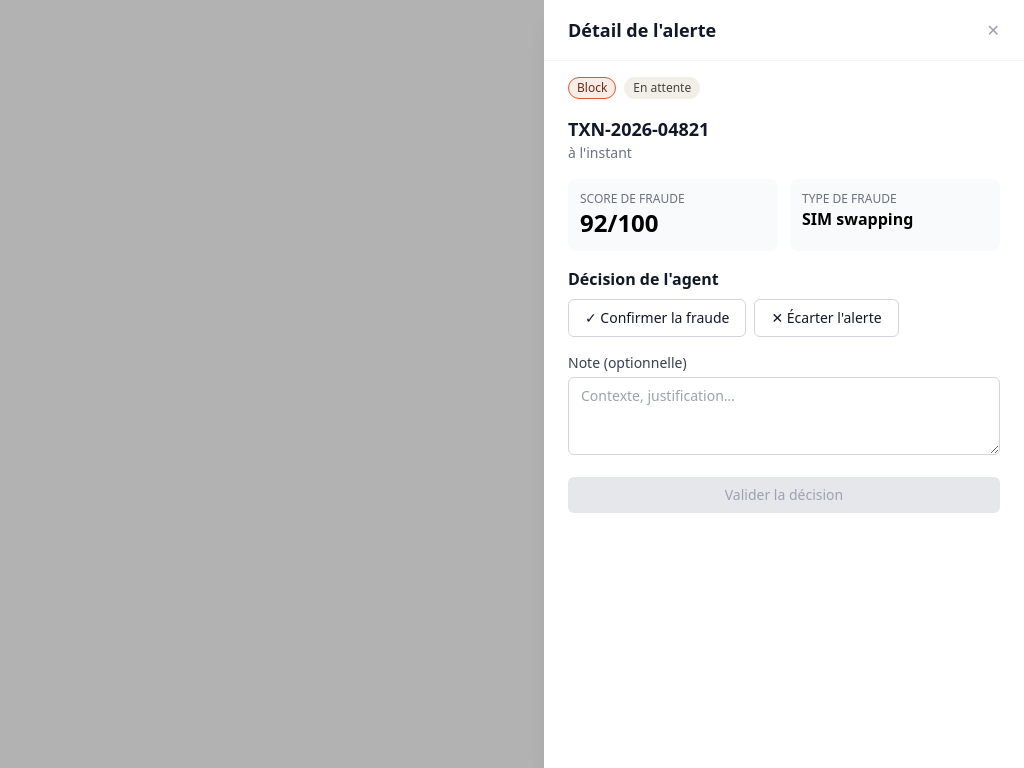
it: AlertDetailPanel › affiche le bandeau de conflit avec les infos réelles sur 409
Step 1. Click the button "✓ Confirmer la fraude" → (657, 318), box [568,299,746,337]
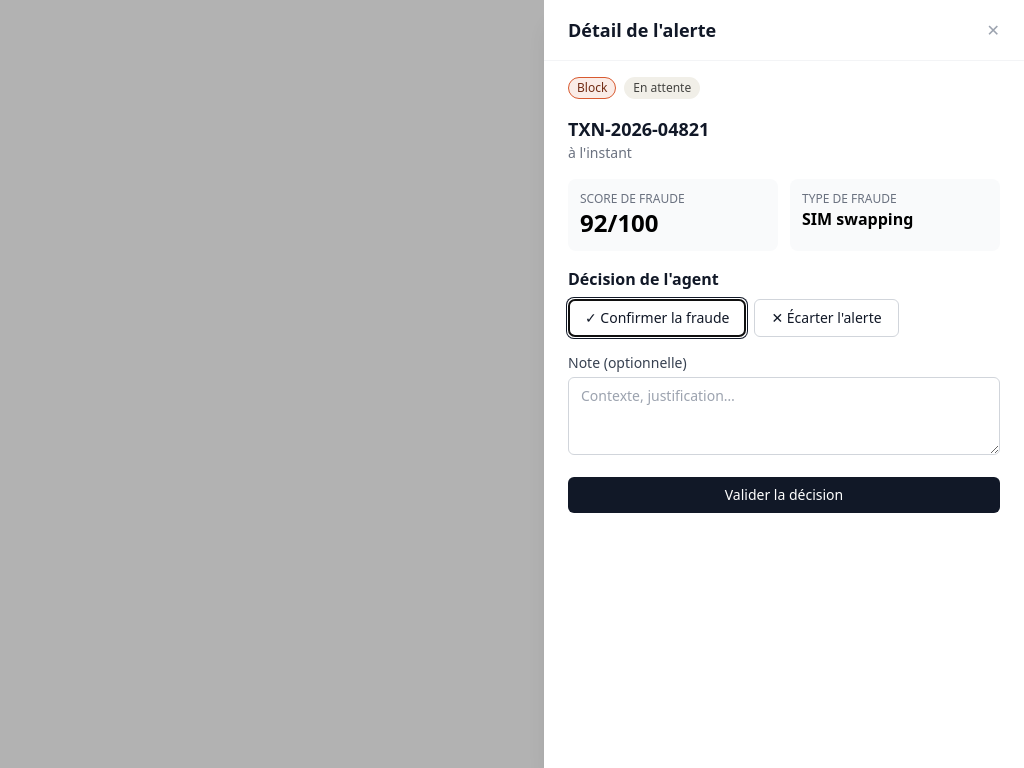
Step 2. Click the button "Valider la décision" → (784, 495), box [568,477,1000,513]
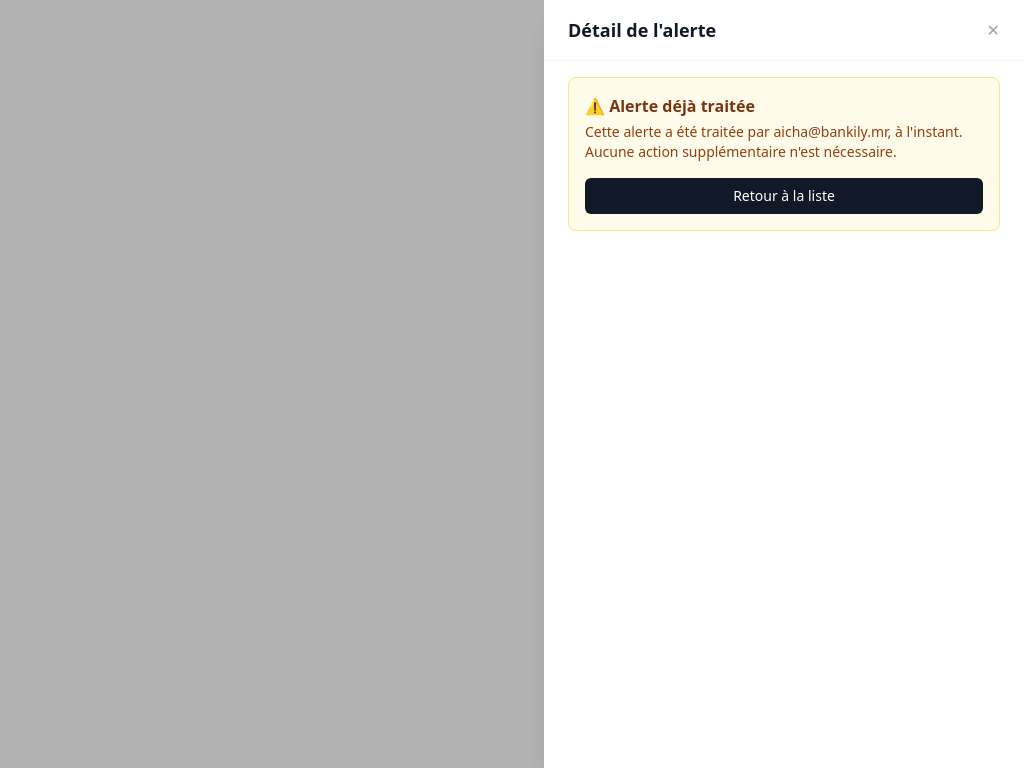
Expected: the text "⚠ Alerte déjà traitée" is shown, [585,95,755,117]
Expected: the text "aicha@bankily.mr" is shown, [585,122,962,141]
